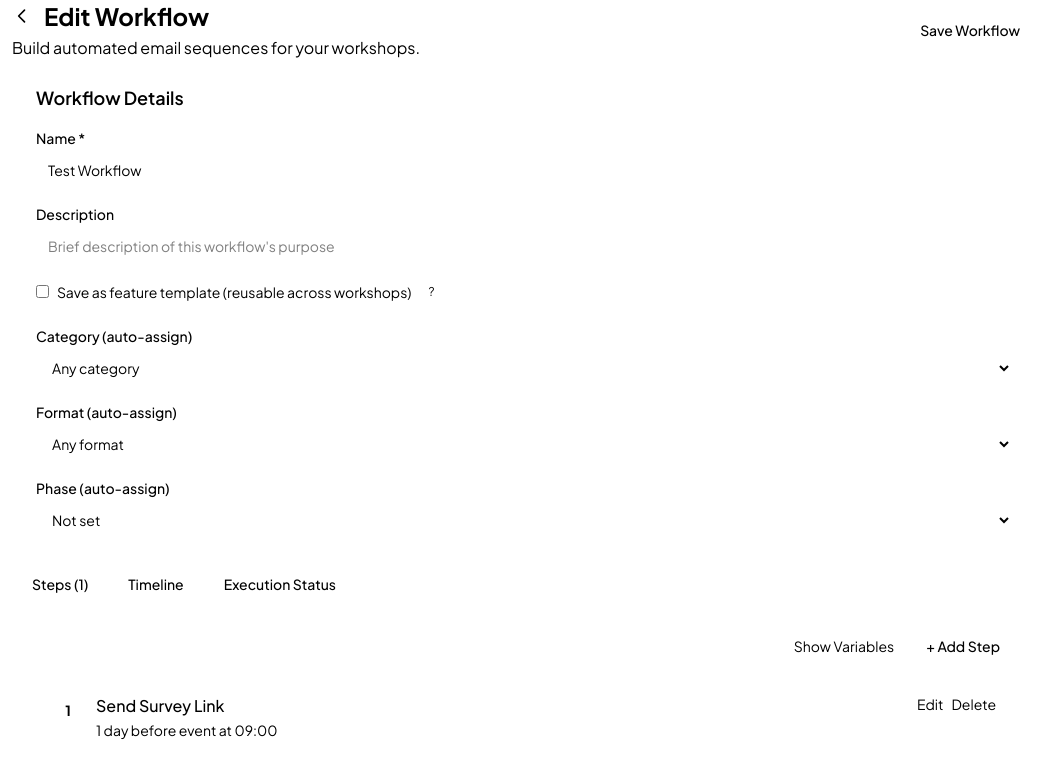
StepCard: body without {{surveyUrl}} shows validation error, no fetch for save
Click the button "Edit".
click(930, 704)  # box [917, 694, 943, 714]
(page scrolled)
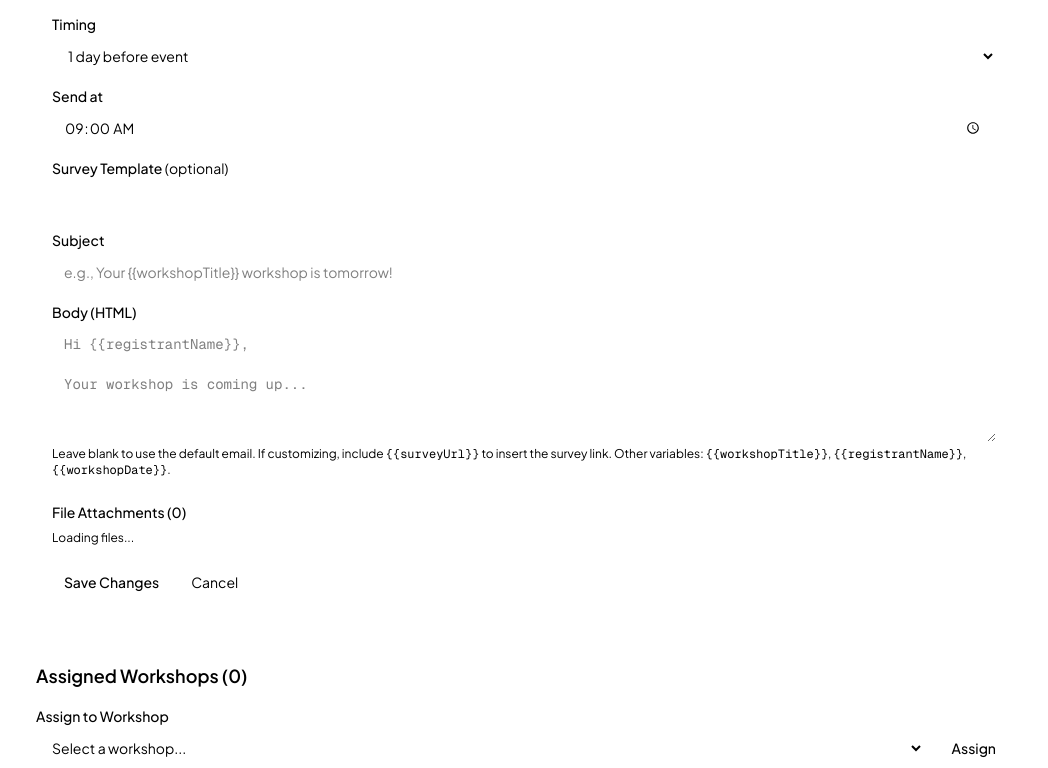
Now the text box with placeholder "Hi {{registrantName}}, Your workshop is coming up..." is shown
Type "Hello, please take the survey!" into the text box with placeholder "Hi {{registrantName}}, Your workshop is coming up...".
click(524, 384); type("Hello, please take the survey!")  # box [52, 326, 996, 442]
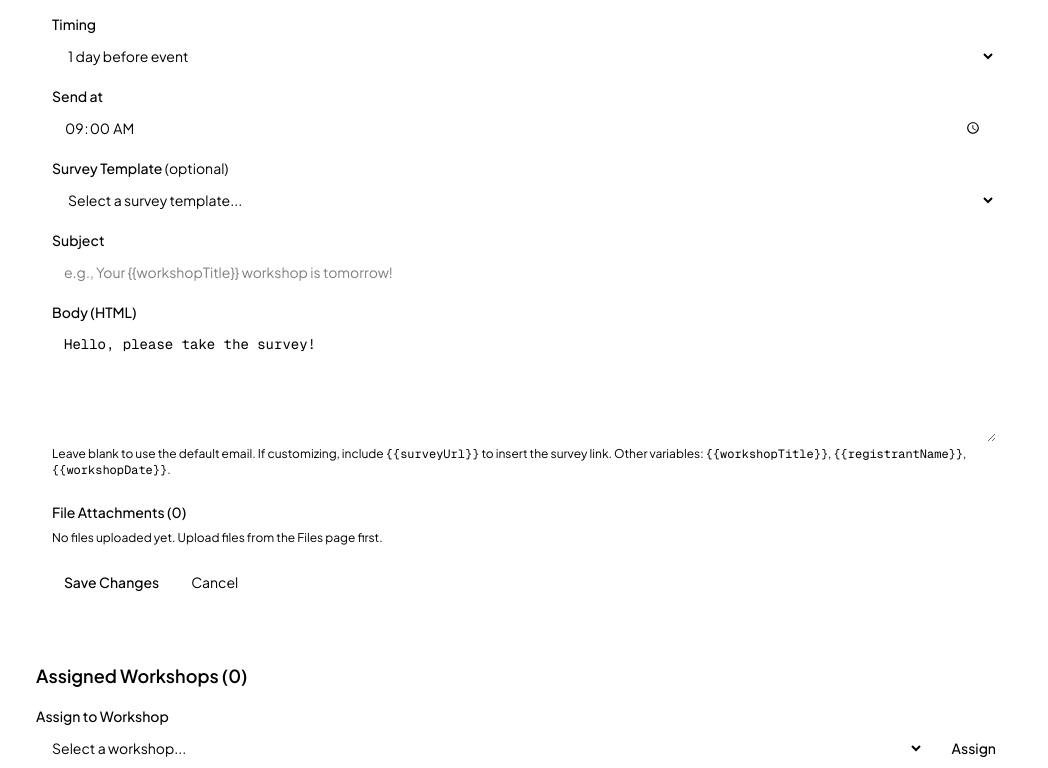
Click the button "Save Changes".
click(112, 582)  # box [52, 566, 171, 598]
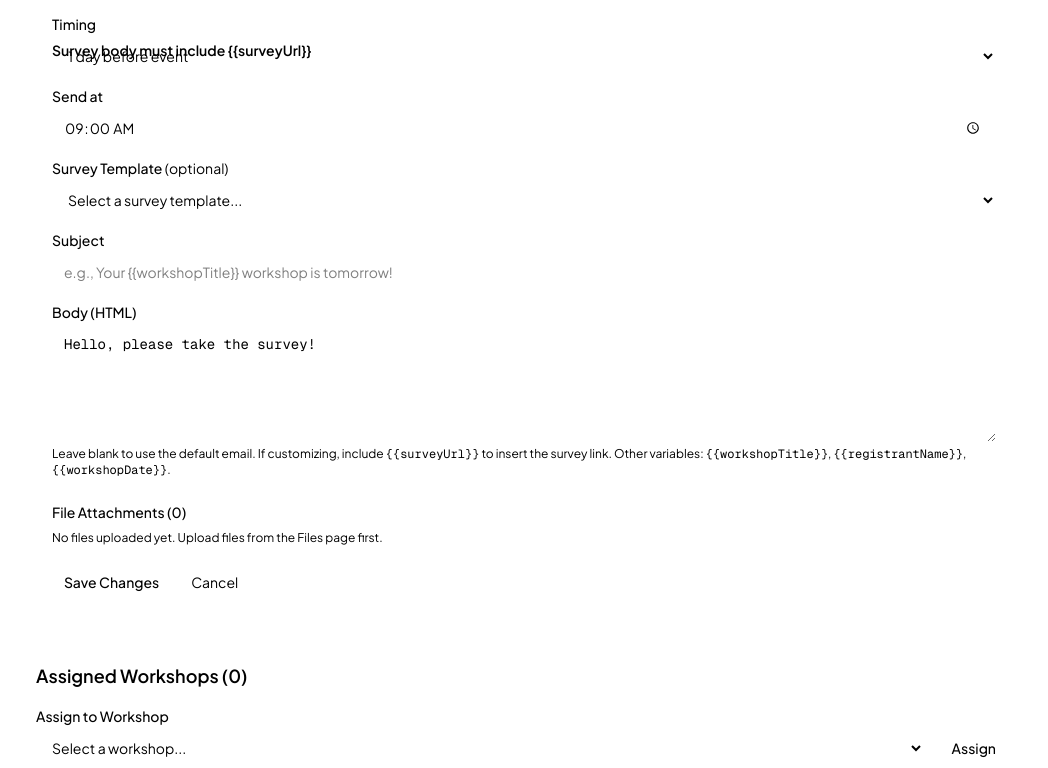
Now the text "Survey body must include {{surveyUrl}}" is shown, box [52, 40, 312, 60]
